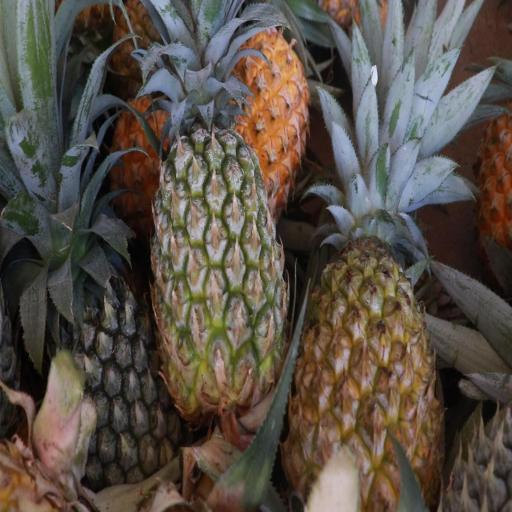------------------------------: (153, 116, 283, 407)
Pineapple - v8 v1: (284, 179, 434, 512), (142, 11, 302, 172)
